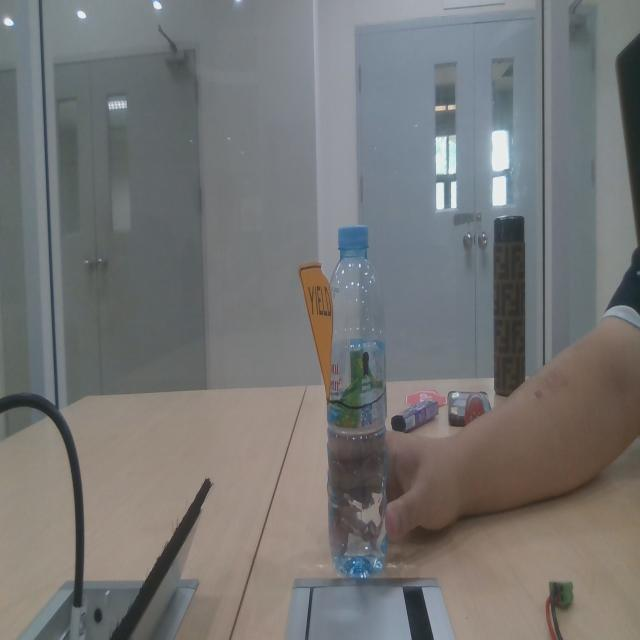Yield: (295, 252, 350, 421)
